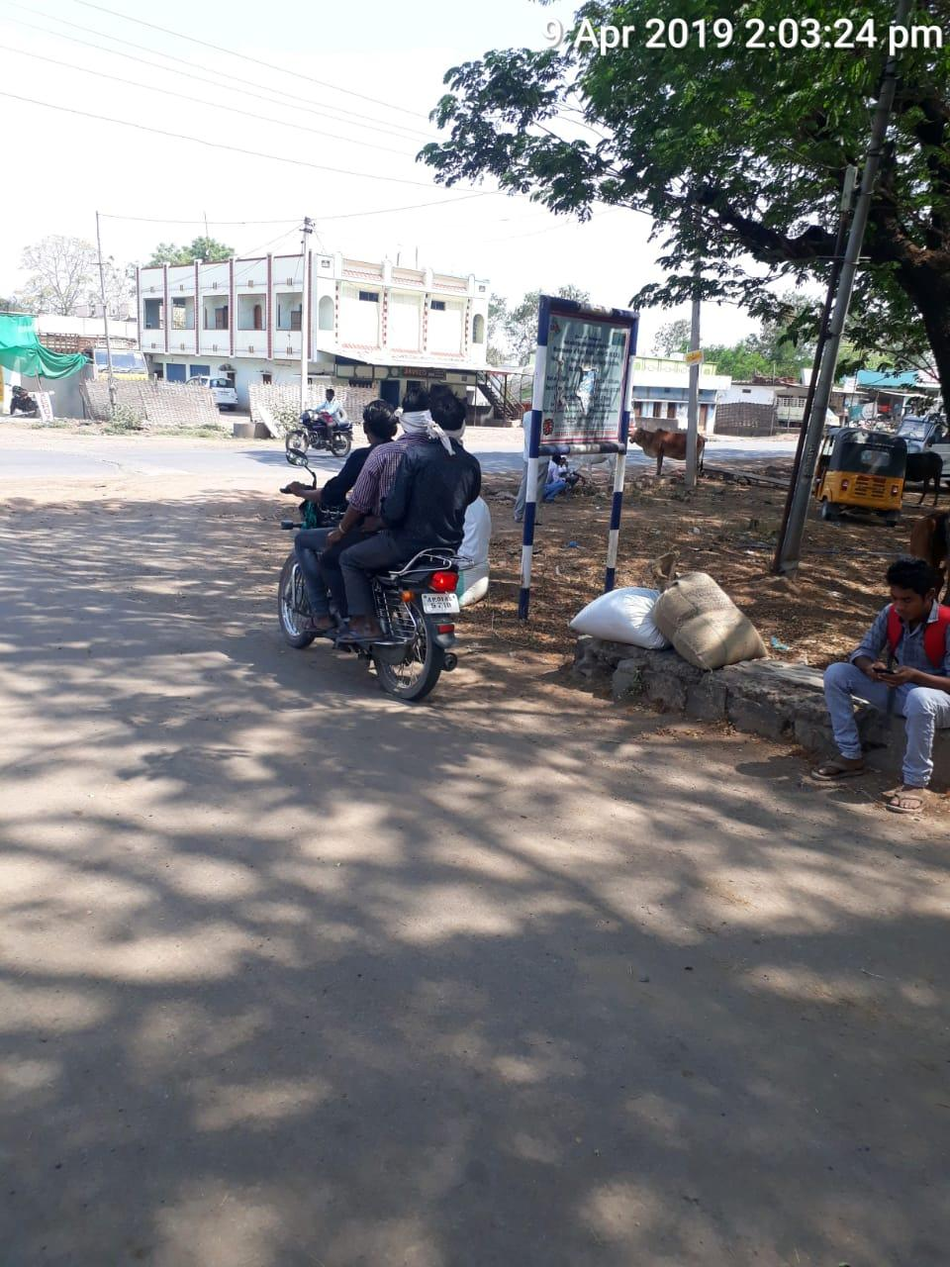plate: (411, 589, 471, 625)
